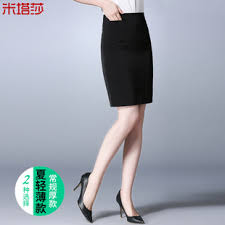F_tailored skirt: (96, 10, 158, 108)
